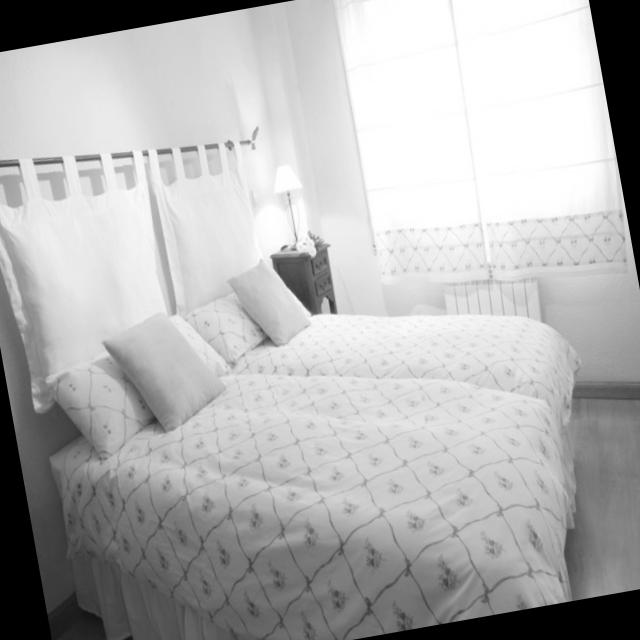2001: (335, 0, 627, 273)
bed -occluded-: (0, 145, 575, 640), (155, 127, 575, 423)
cushion occluded: (96, 309, 226, 433), (227, 250, 309, 345)
floor -X: (57, 372, 640, 640)
lamp crop: (273, 163, 298, 201), (290, 201, 305, 250)
night table: (276, 235, 336, 309)
pillow: (189, 290, 266, 359)
pillow occluded: (45, 312, 224, 461)
radiator: (441, 274, 545, 320)
rail crop: (0, 123, 263, 175)
wall clock: (0, 7, 335, 638), (272, 0, 640, 397)
